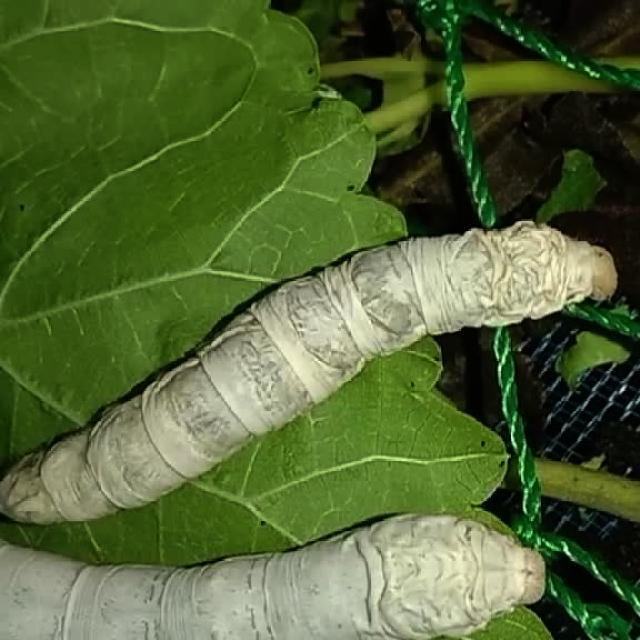Grasserie: (0, 150, 624, 571)
